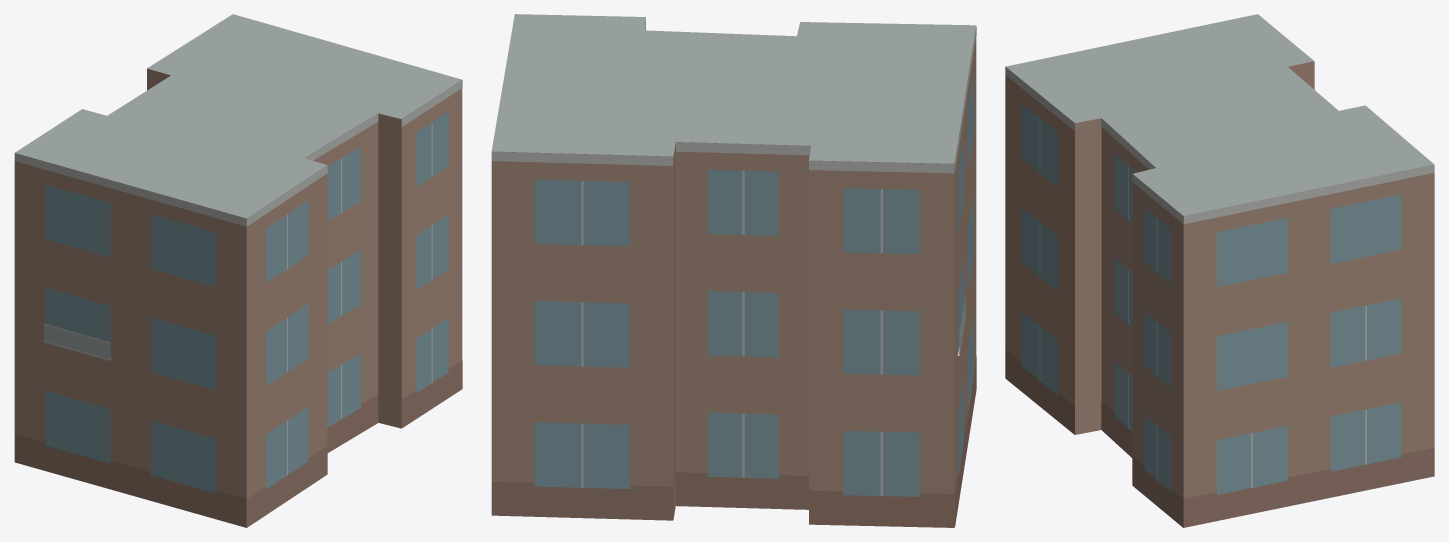
The model's file is survey-upis-32704913.glb.
The picture shows the model from 3 angles, left to right: view 1: azimuth 30°, elevation 25°; view 2: azimuth 150°, elevation 25°; view 3: azimuth 270°, elevation 25°; orthographic projection. The views are drawn at different scales.
Parts seen in each view (by area): view 1: survey-upis-32704913.tmp; view 2: survey-upis-32704913.tmp; view 3: survey-upis-32704913.tmp.
Boxes of the visible parts, x1,y1,x2,y2 form: survey-upis-32704913.tmp: (14, 14, 462, 527); survey-upis-32704913.tmp: (491, 14, 976, 527); survey-upis-32704913.tmp: (1005, 14, 1434, 527).
Size of the model in its own units: 12.79 by 9.2 by 11.49.
